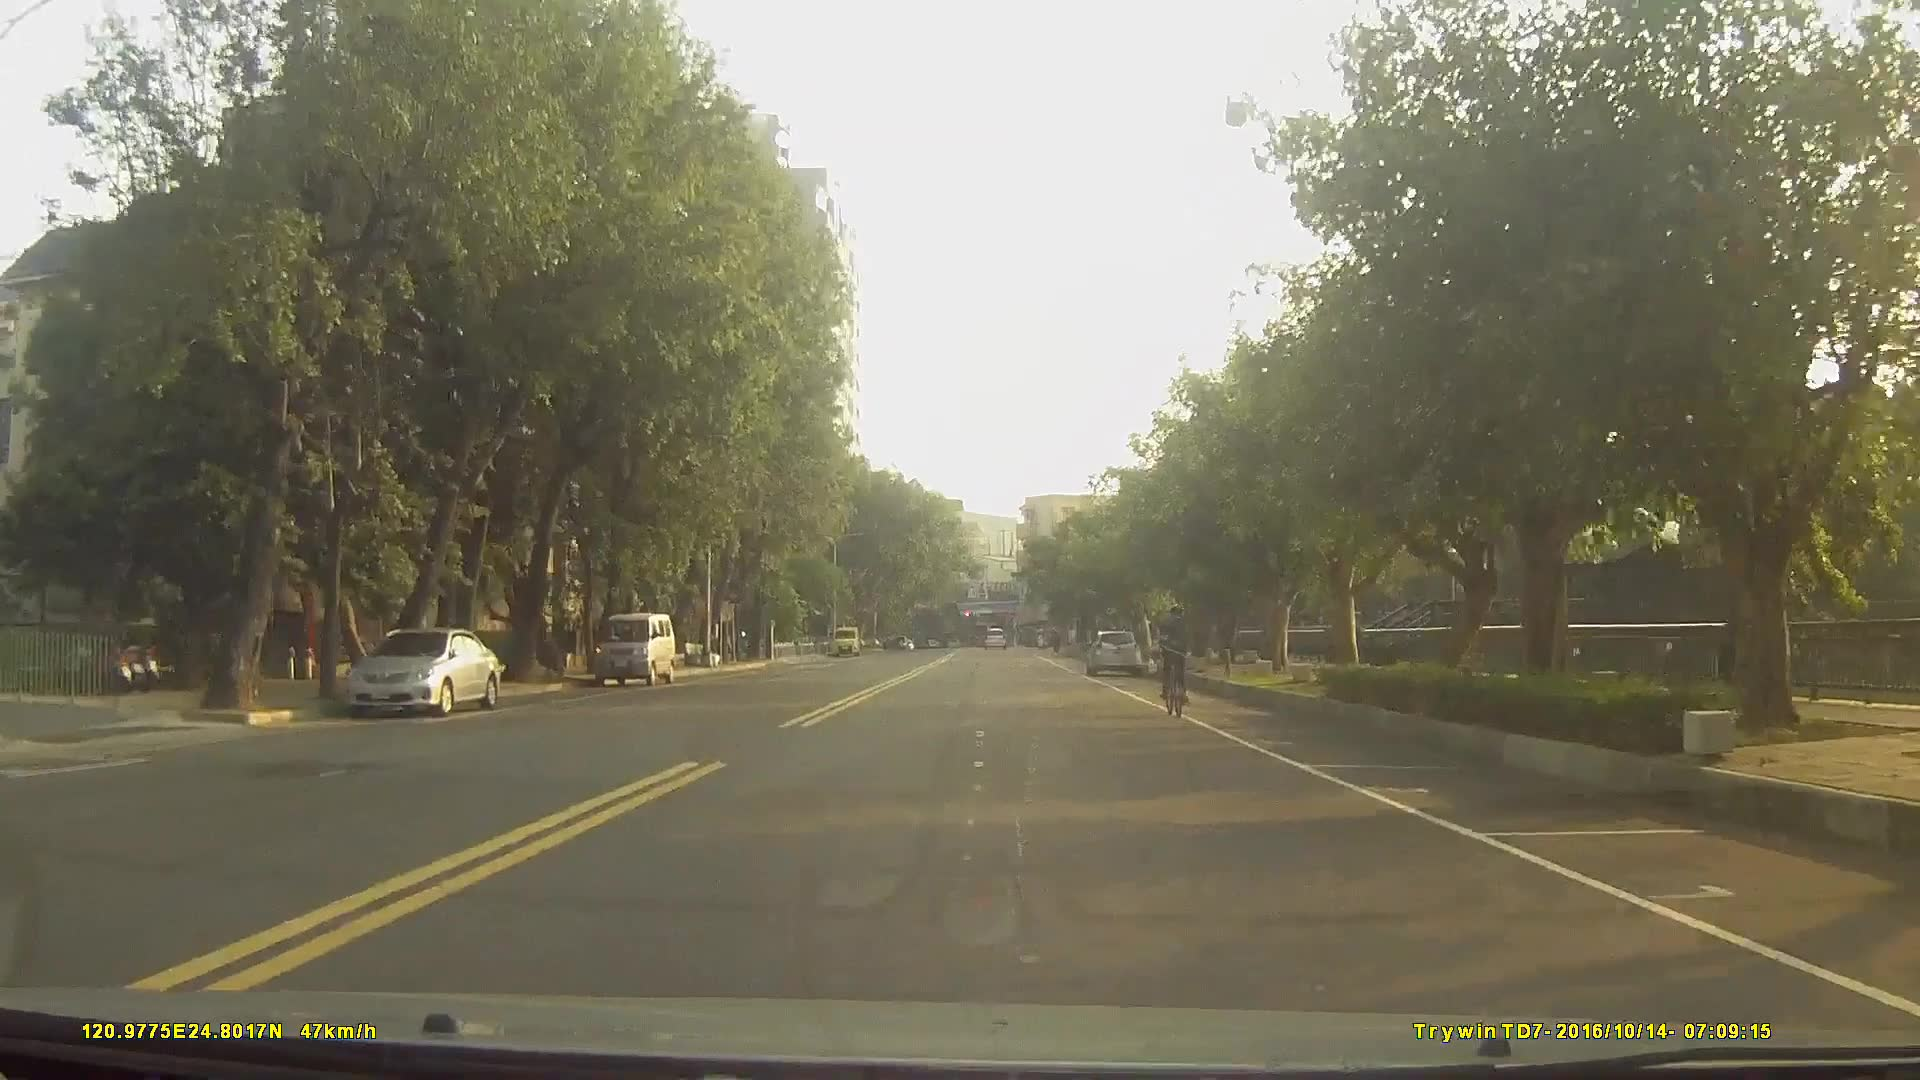rider: (1157, 601, 1195, 717)
vehicle: (339, 623, 501, 716), (591, 610, 676, 684), (1085, 626, 1142, 675), (980, 624, 1007, 652)
